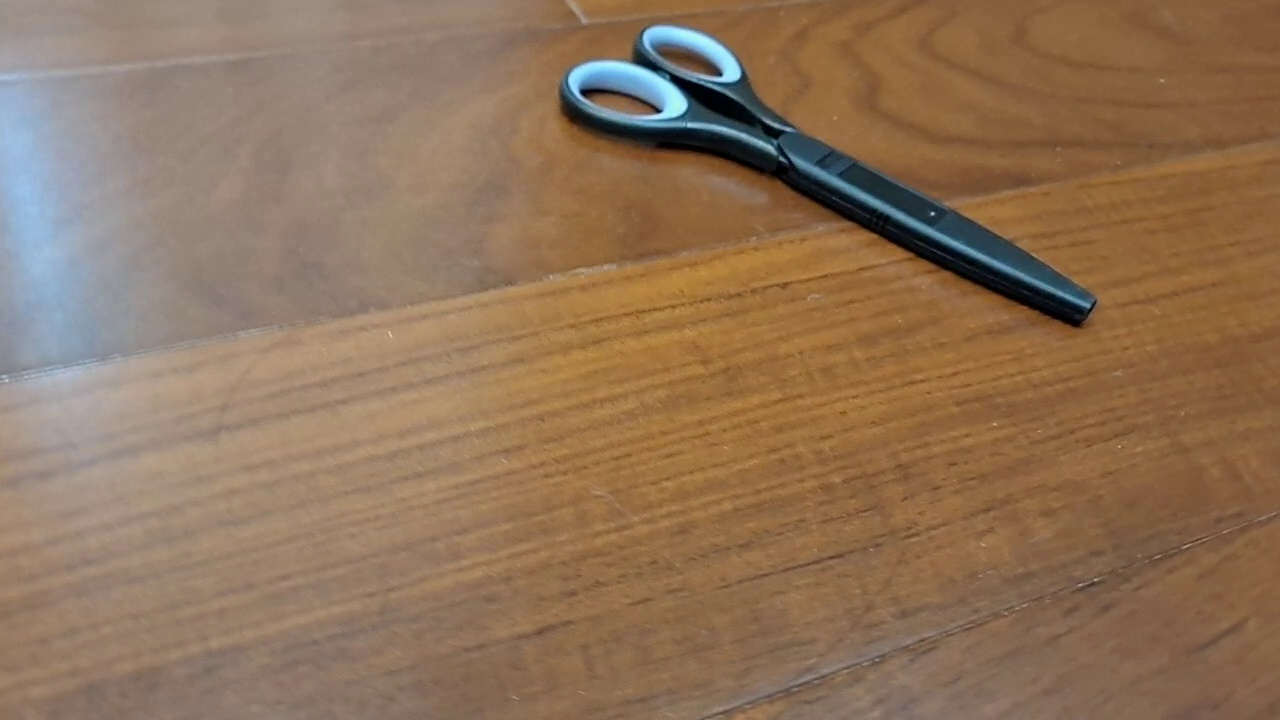scissors: (558, 22, 1099, 329)
